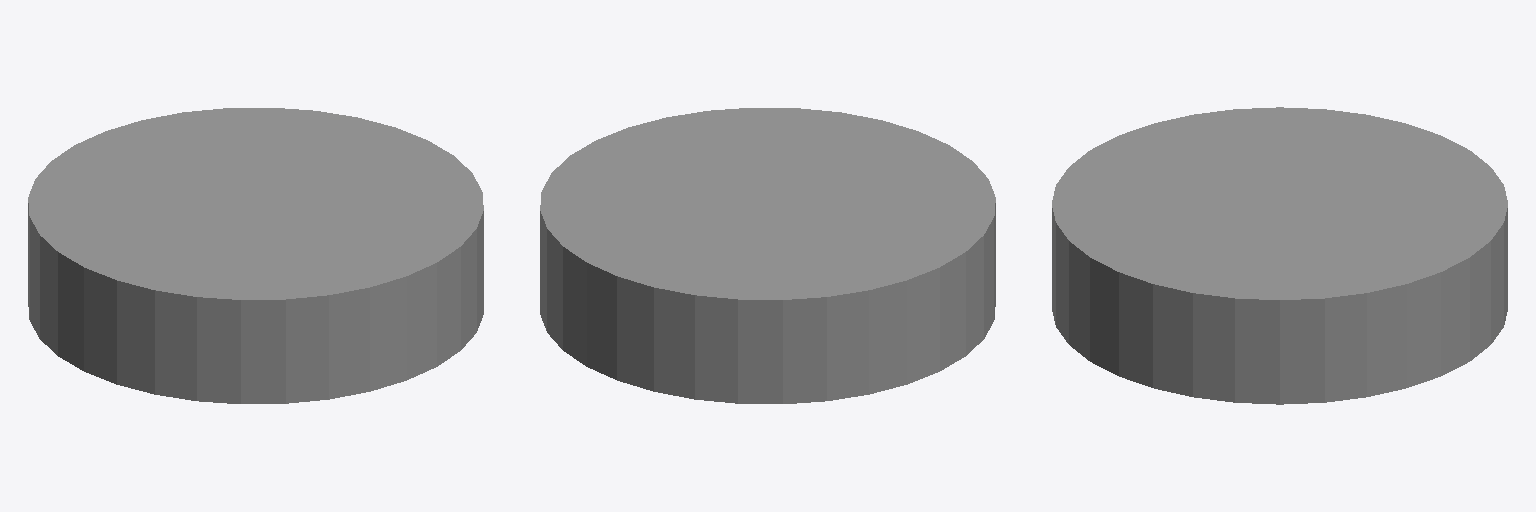
The model's file is paddle.obj.
3 views of the same model, side by side, from view 1: azimuth 30°, elevation 25°; view 2: azimuth 150°, elevation 25°; view 3: azimuth 270°, elevation 25° (orthographic).
Parts seen in each view (by area): view 1: Mesh.001_Cylinder; view 2: Mesh.001_Cylinder; view 3: Mesh.001_Cylinder.
Boxes of the visible parts, x1,y1,x2,y2 form: Mesh.001_Cylinder: [28, 108, 483, 403]; Mesh.001_Cylinder: [540, 108, 995, 403]; Mesh.001_Cylinder: [1052, 107, 1507, 404].
Size of the model in its own units: 2 by 0.5039 by 2.